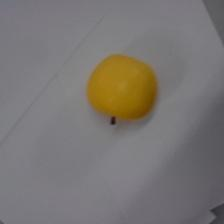yellow: (85, 51, 159, 127)
